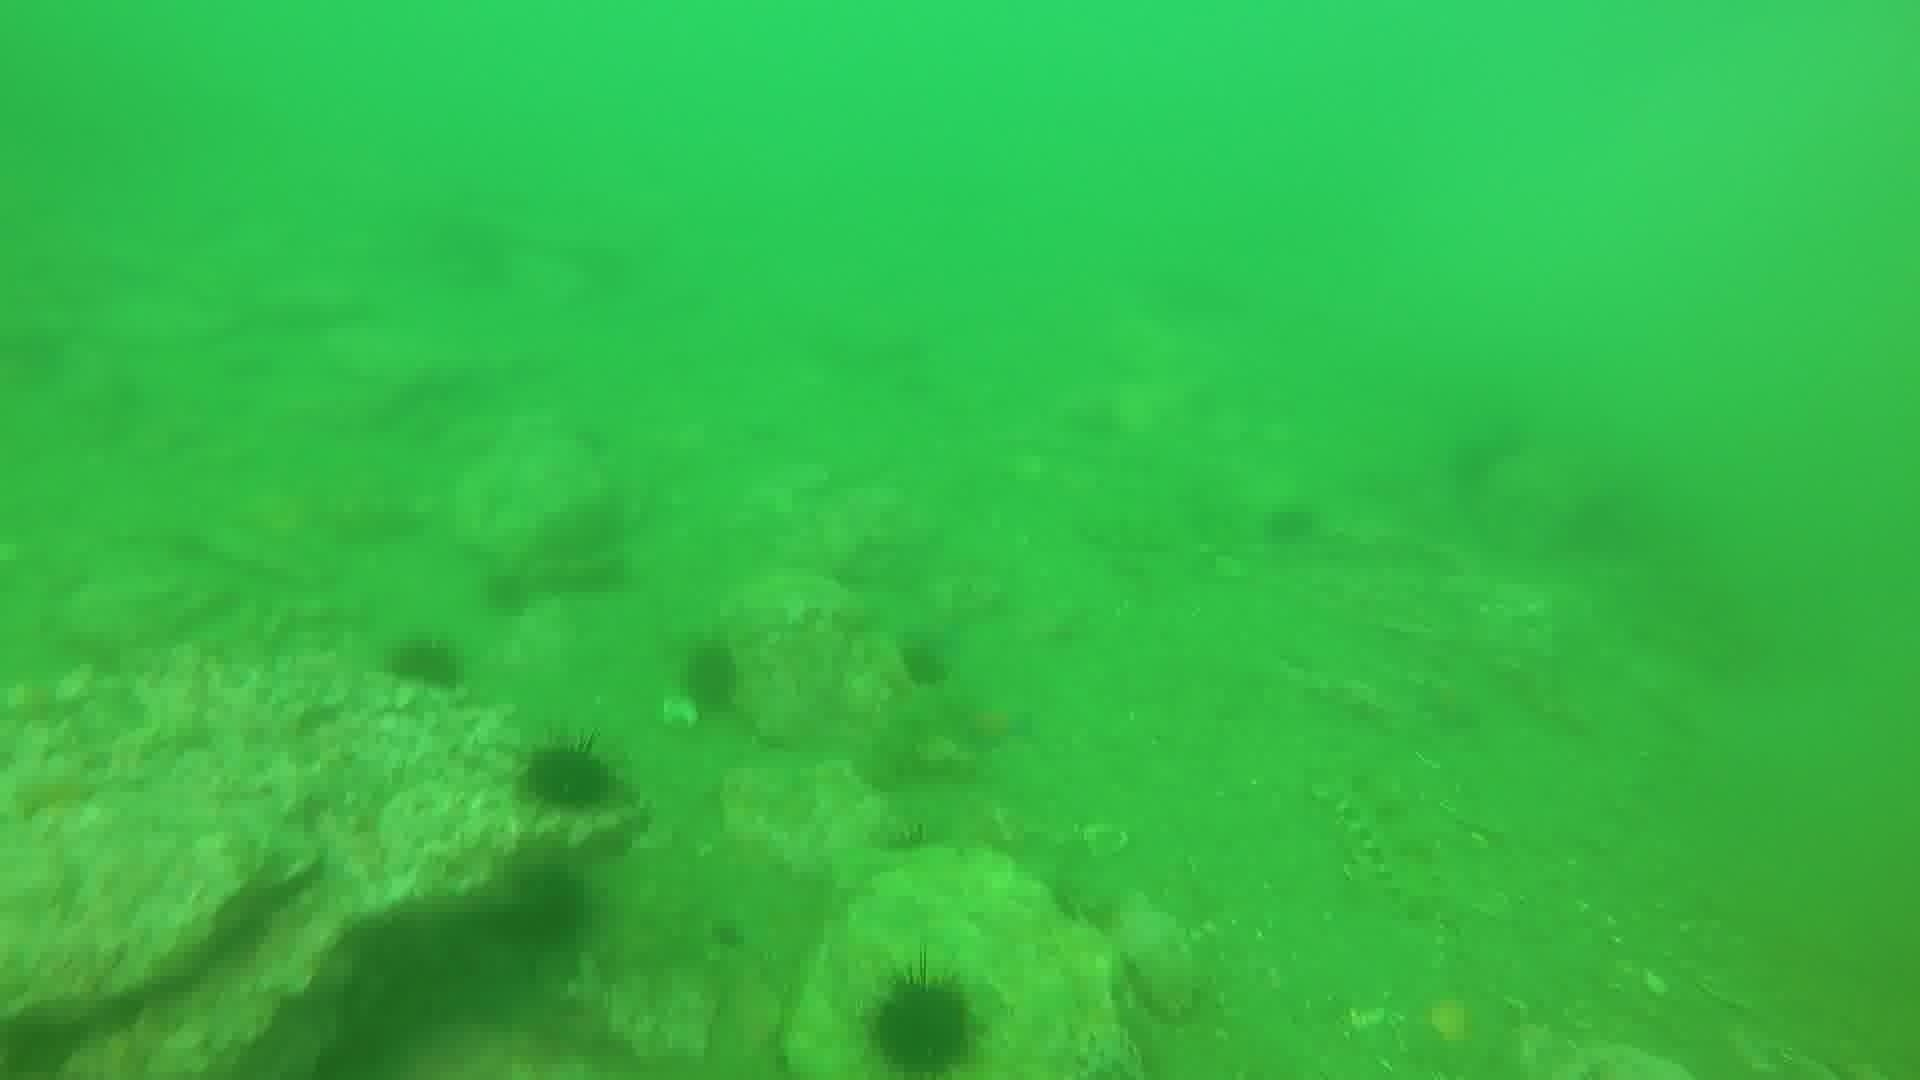echinus: (861, 967, 982, 1073), (487, 853, 597, 957), (517, 736, 621, 820), (674, 637, 748, 717), (382, 632, 468, 698), (891, 633, 956, 694), (1259, 497, 1324, 553), (477, 564, 538, 620)
holothurian: (1315, 760, 1458, 926)
starfish: (1389, 975, 1526, 1077), (942, 688, 1039, 756), (5, 760, 103, 825)
